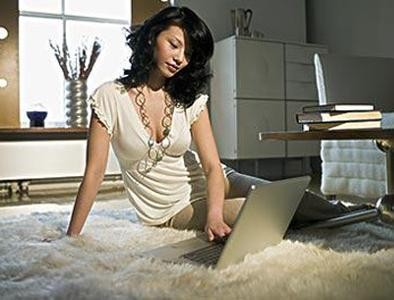person: (66, 7, 378, 242)
